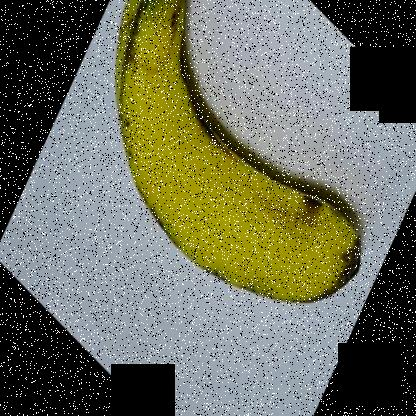freshripe: (108, 1, 371, 308)
